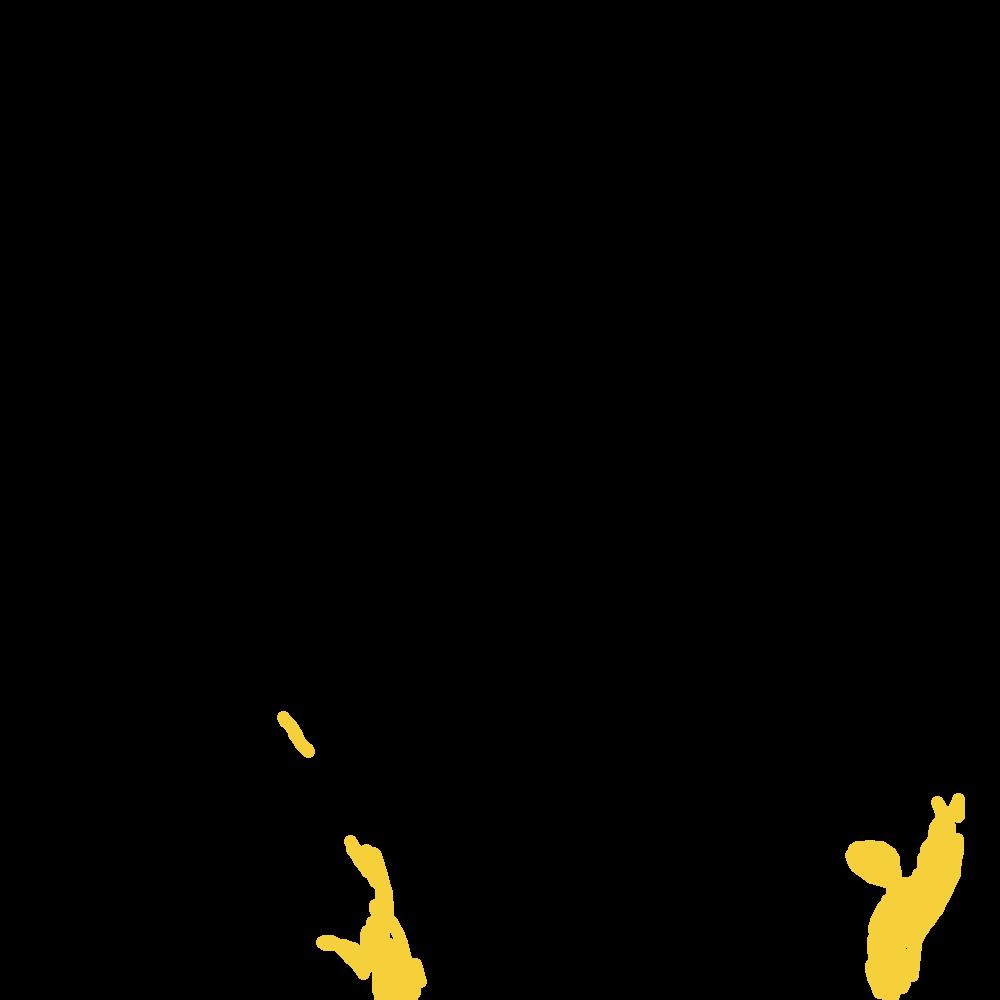legal: (858, 800, 964, 1000), (322, 832, 427, 1000), (256, 633, 317, 759)
